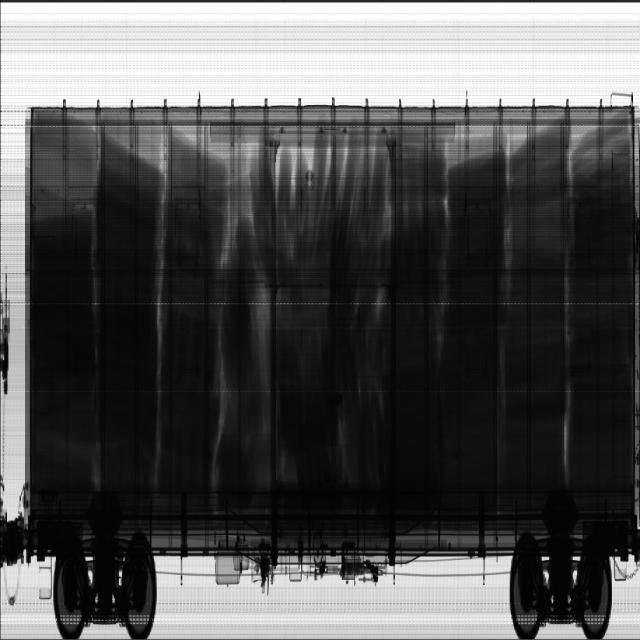textiles: (32, 115, 631, 495)
